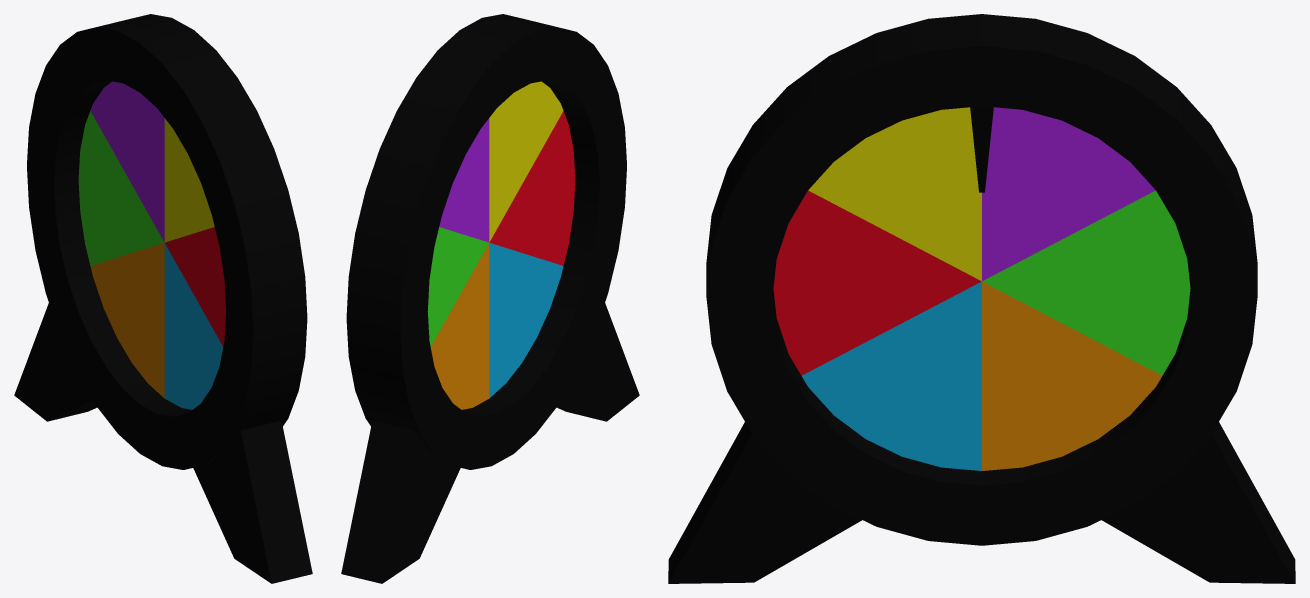
The model's file is Çark.fbx.
3 views of the same model, side by side, from view 1: azimuth 30°, elevation 25°; view 2: azimuth 150°, elevation 25°; view 3: azimuth 270°, elevation 25° (orthographic). The views are drawn at different scales.
Visible parts, largest first — view 1: Ana Gövde, Cylinder, Ayak; view 2: Ana Gövde, Cylinder, Ayak; view 3: Cylinder, Ana Gövde, Ayak, Seçme Oku.
Part boxes in pixels (<box>): Ana Gövde: <box>27,14,307,469</box>; Cylinder: <box>78,81,226,409</box>; Ayak: <box>14,303,312,583</box>; Ana Gövde: <box>346,14,626,469</box>; Cylinder: <box>427,81,575,409</box>; Ayak: <box>341,303,639,583</box>; Cylinder: <box>773,107,1190,470</box>; Ana Gövde: <box>706,14,1257,545</box>; Ayak: <box>668,422,1295,583</box>; Seçme Oku: <box>970,106,993,192</box>.
Size of the model in its own units: 68.46 by 542 by 566.
